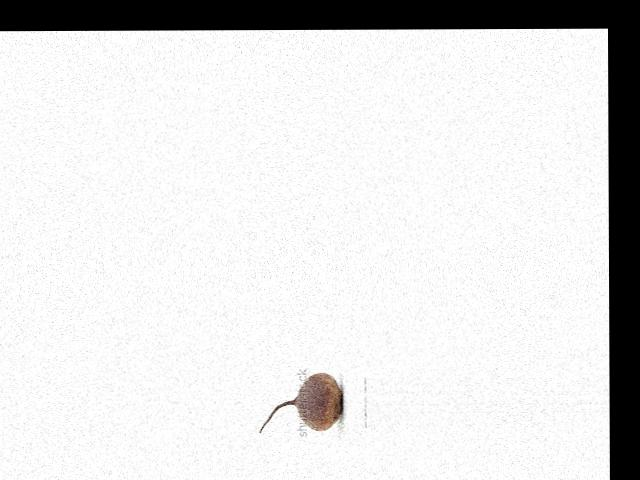beet: (259, 371, 342, 432)
